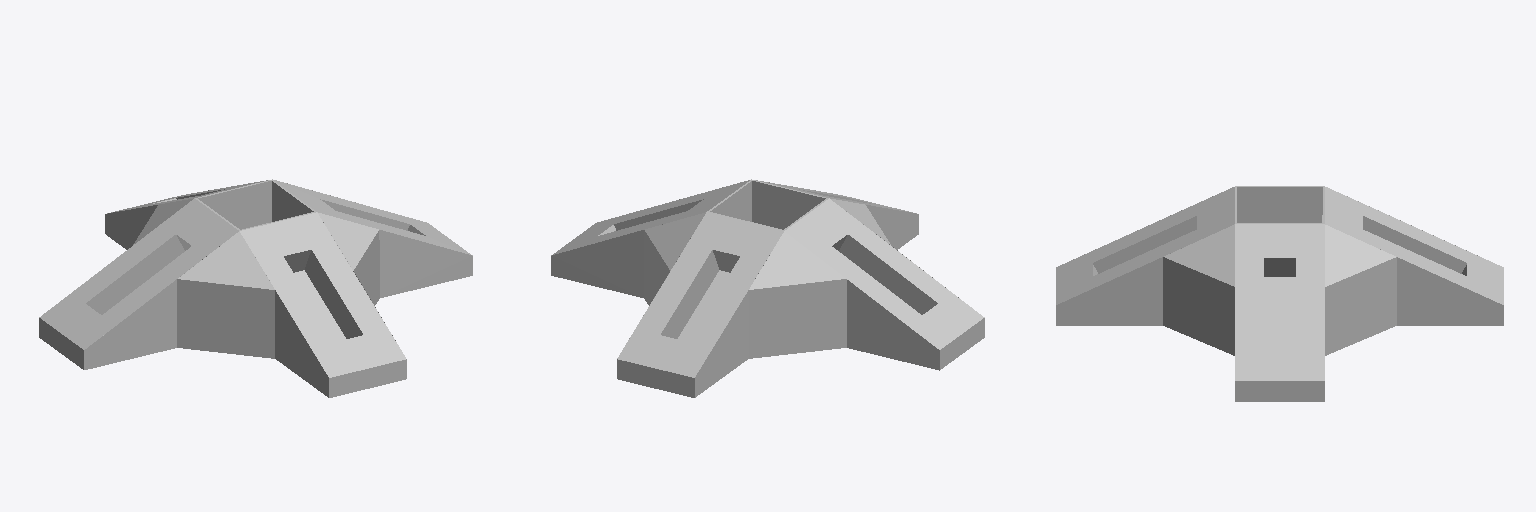
The model's file is stabilizerCore.obj.
3 renders of one model, left to right at view 1: azimuth 30°, elevation 25°; view 2: azimuth 150°, elevation 25°; view 3: azimuth 270°, elevation 25°, orthographic.
Parts seen in each view (by area): view 1: stabilizier; view 2: stabilizier; view 3: stabilizier.
Part boxes in pixels (x1,y1,x2,y2): stabilizier: (39, 179, 472, 397); stabilizier: (551, 179, 984, 397); stabilizier: (1056, 186, 1503, 401).
Size of the model in its own units: 10 by 2.5 by 10.